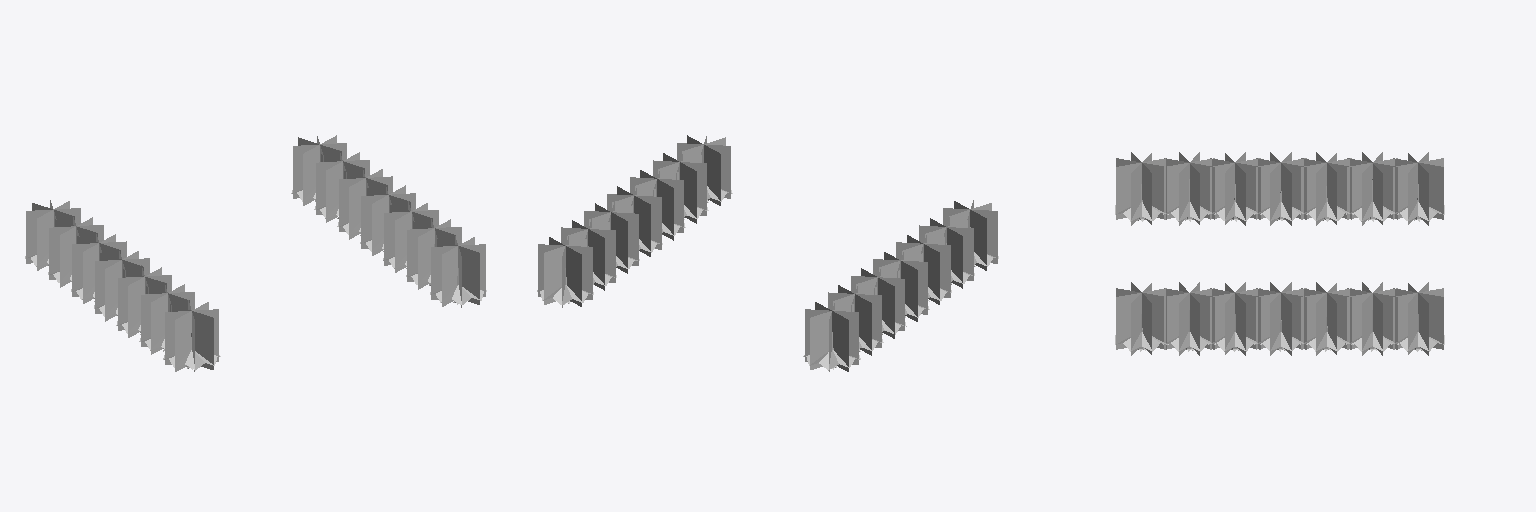
File: trees.obj
The picture shows the model from 3 angles: view 1: azimuth 30°, elevation 25°; view 2: azimuth 150°, elevation 25°; view 3: azimuth 270°, elevation 25°; orthographic projection.
Parts seen in each view (by area): view 1: 紅魔館_mesh_紅魔館; view 2: 紅魔館_mesh_紅魔館; view 3: 紅魔館_mesh_紅魔館.
Boxes of the visible parts, x1=… form: 紅魔館_mesh_紅魔館: x1=25, y1=135, x2=486, y2=371; 紅魔館_mesh_紅魔館: x1=537, y1=135, x2=998, y2=371; 紅魔館_mesh_紅魔館: x1=1115, y1=152, x2=1444, y2=355.
Bounding box in the file's own units: 76.07 × 13.2 × 69.5.